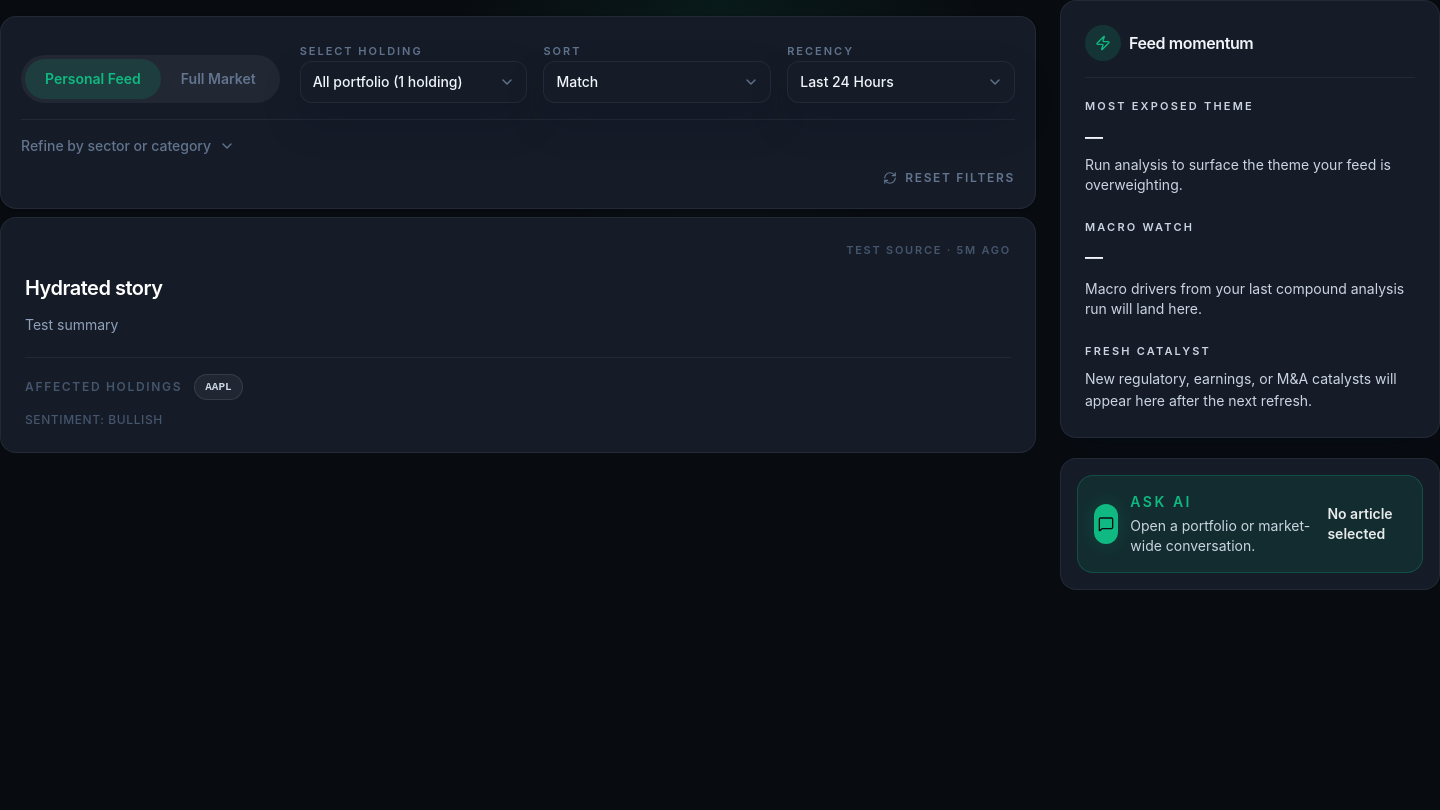
Test: FeedView › falls back from hot to recent and shows the no-hot notice
The width and height of the screenshot is (1440, 810).
Select "Hot" in the dropdown labelled "Sort" at x=657, y=82, box x1=543 y1=61 x2=771 y2=103
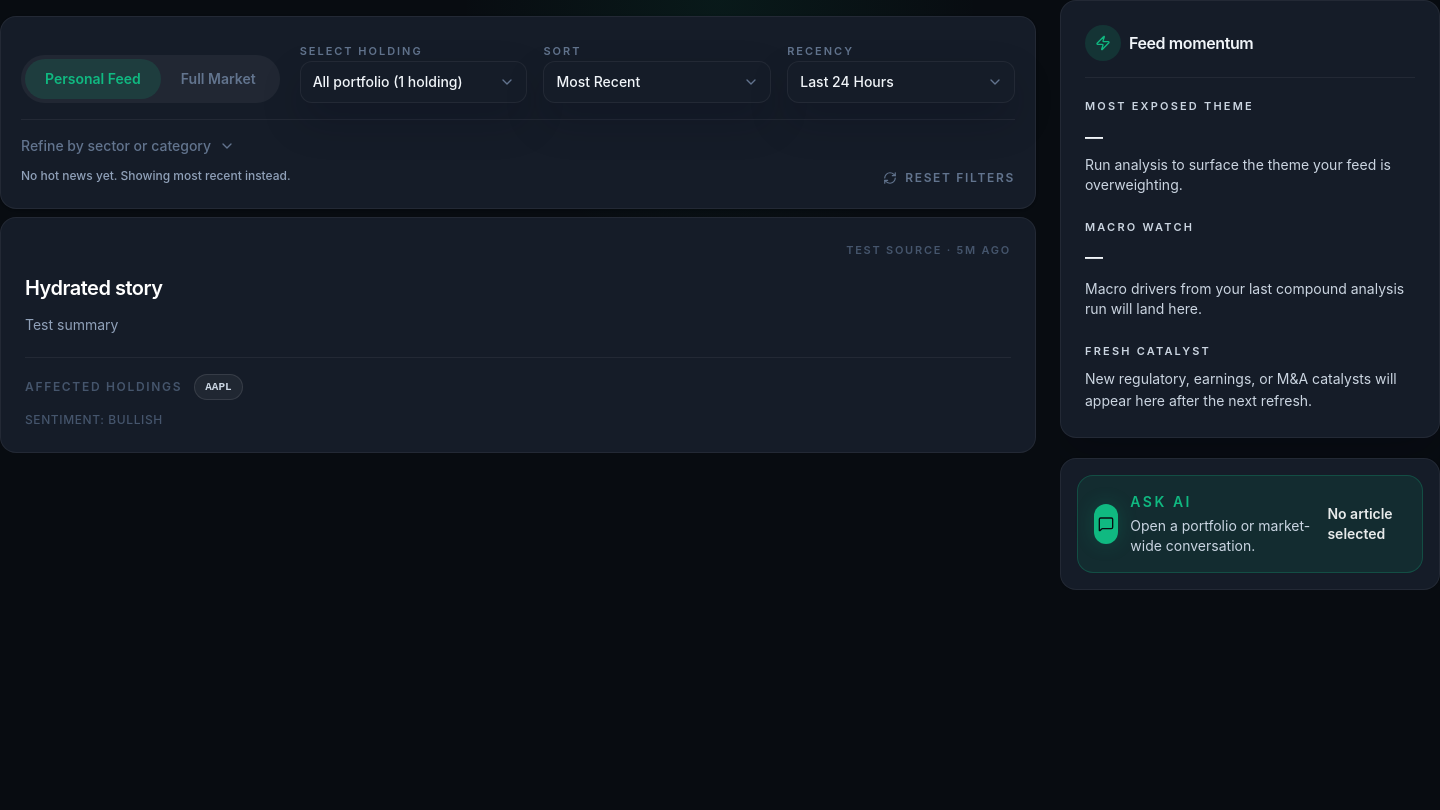
Now the text "No hot news yet. Showing most recent instead." is shown, box x1=21 y1=168 x2=291 y2=188
